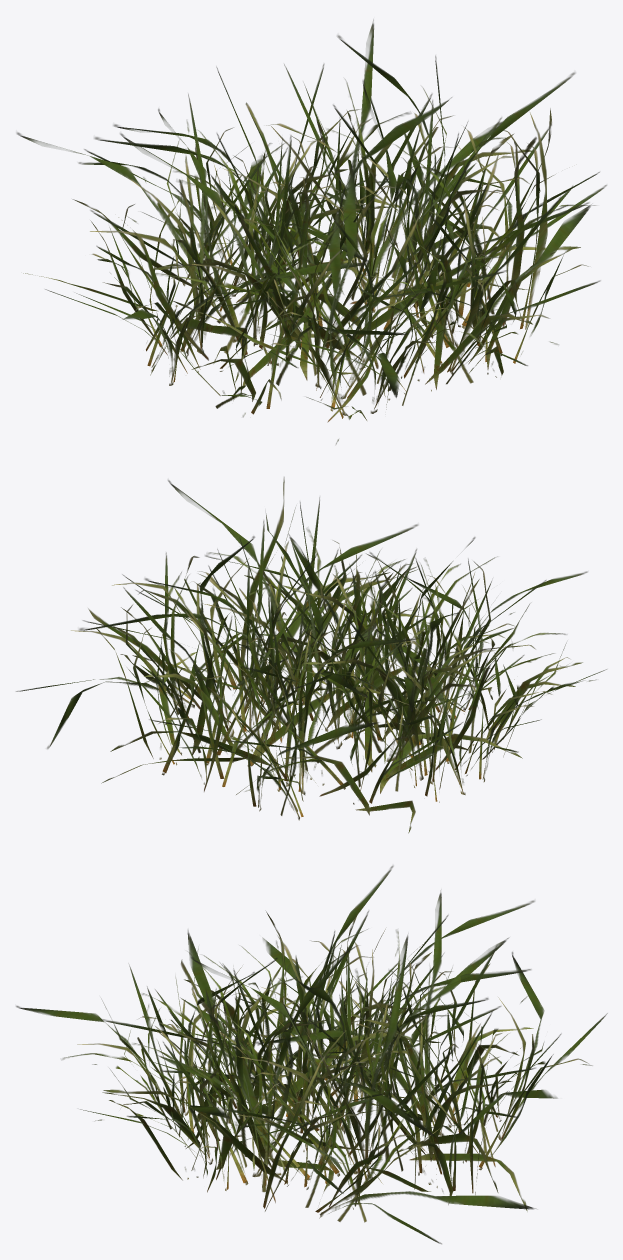
Rendered from erba_a.glb.
3 views of the same model, one above another, from view 1: azimuth 30°, elevation 25°; view 2: azimuth 150°, elevation 25°; view 3: azimuth 270°, elevation 25° (orthographic). The views are drawn at different scales.
Visible parts, largest first — view 1: erba_a; view 2: erba_a; view 3: erba_a.
Boxes of the visible parts, x1,y1,x2,y2 form: erba_a: (16, 19, 606, 444); erba_a: (16, 477, 606, 833); erba_a: (16, 865, 607, 1244).
Bounding box in the file's own units: 0.3175 × 0.1463 × 0.3271.
1 material, 1 textured.
